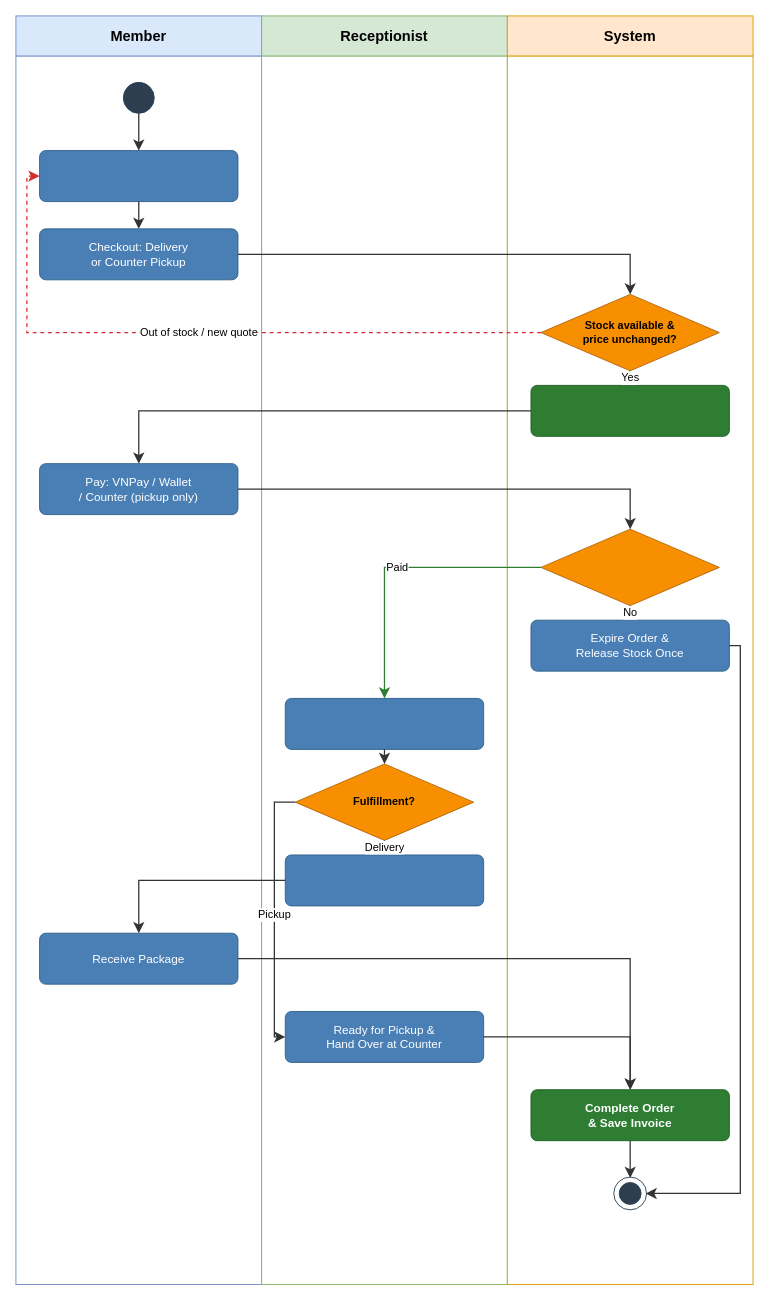
The diagram is 769 pixels wide and 1300 high, and some of its shapes have lost their labels. Here are the shapes that lost their labels. From the top down, the centre of each, then its label:
At [138,176]: "Browse Products & Add to Cart".
At [629,410]: "Reserve Stock (online 15 min, counter 24 h)".
At [629,567]: "Paid in time?".
At [384,723]: "Process Order (status: processing)".
At [384,880]: "Ship with Tracking (status: shipped)".
